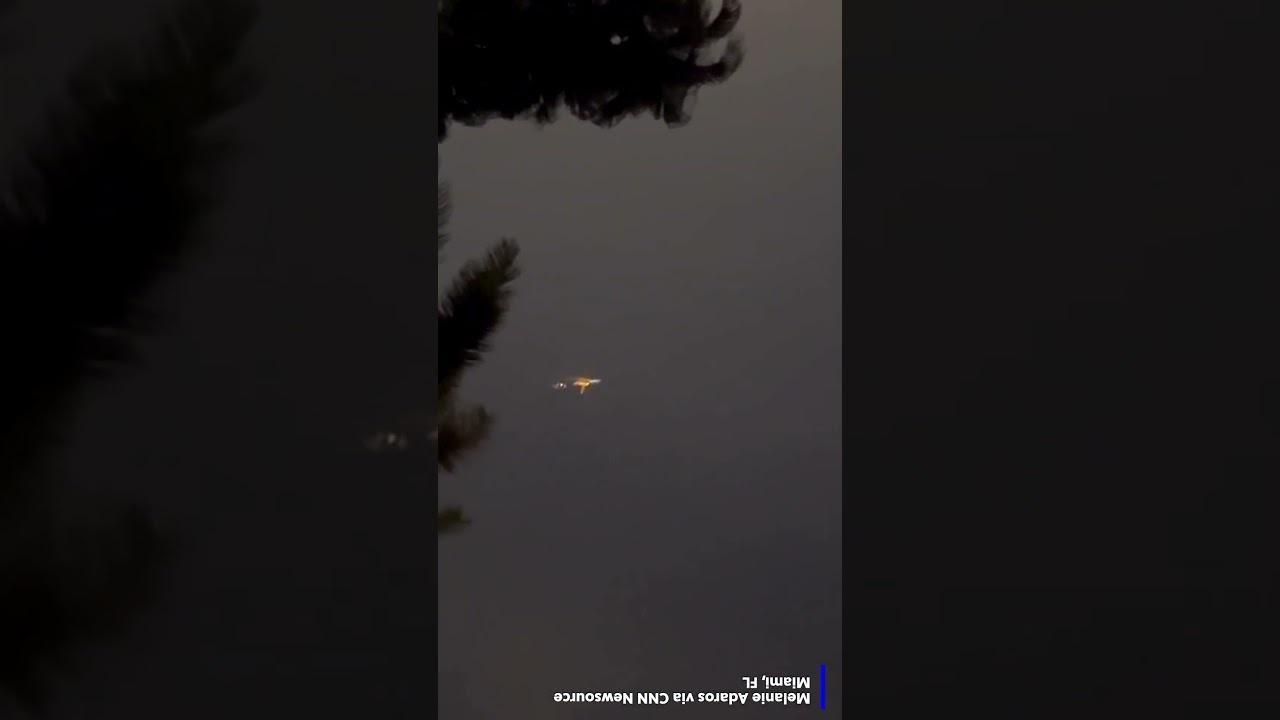Plane: (534, 361, 623, 408)
